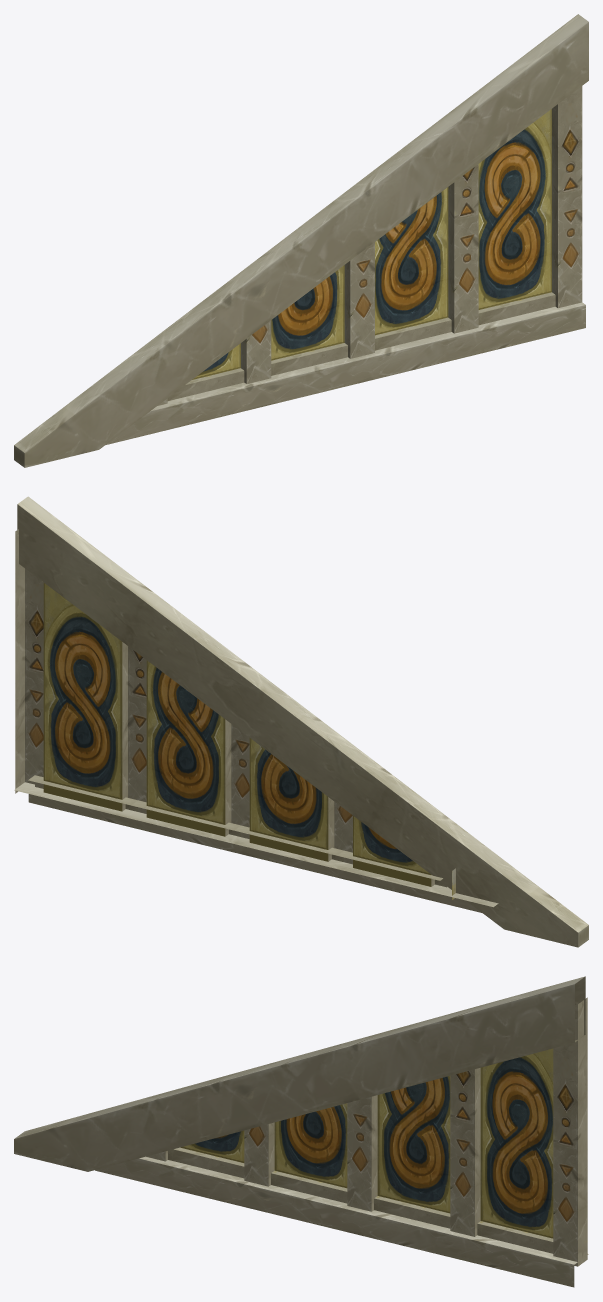
Rendered from stairswall.FBX.
The picture shows the model from 3 angles, top to bottom: view 1: azimuth 30°, elevation 25°; view 2: azimuth 150°, elevation 25°; view 3: azimuth 330°, elevation 25°; orthographic projection.
Parts seen in each view (by area): view 1: polySurface756; view 2: polySurface756; view 3: polySurface756.
Part boxes in pixels (x1,y1,x2,y2): polySurface756: (14, 14, 588, 467); polySurface756: (14, 496, 588, 947); polySurface756: (14, 976, 588, 1287).
Bounding box in the file's own units: 642 × 335 × 31.41.
